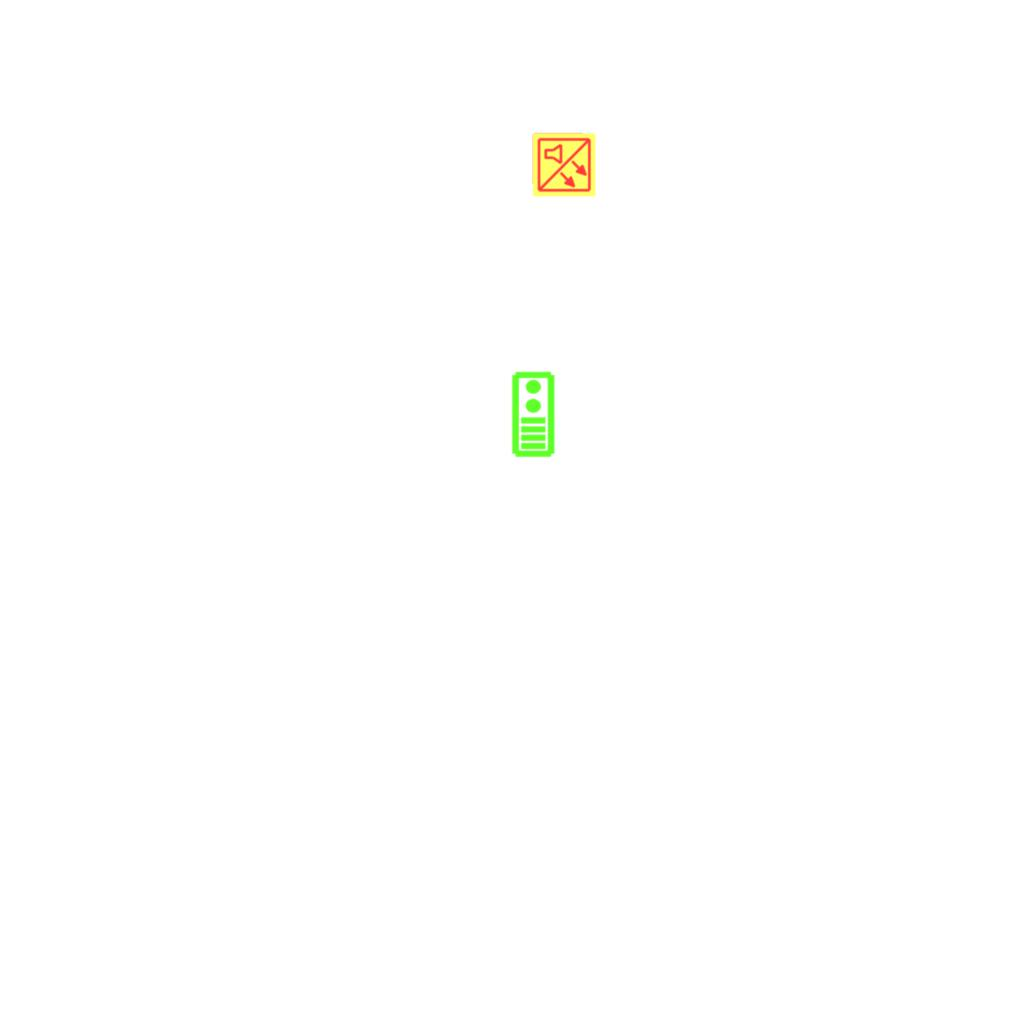Gegensprechanlage_mit_Video: (509, 370, 556, 458)
OKW_Multisensormelder_(Kombination_optischer_Rauch-Kahlenmonoxid_Waerme-Melder): (531, 132, 597, 198)
